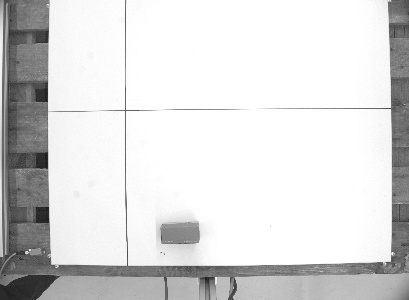b3: (158, 219, 201, 246)
